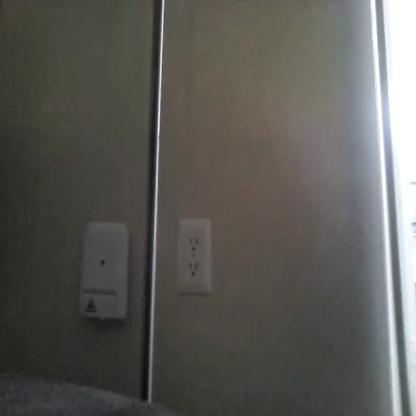OUTLET: (177, 219, 213, 294)
